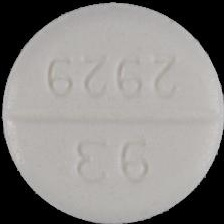53808-0829: (0, 0, 224, 224)
